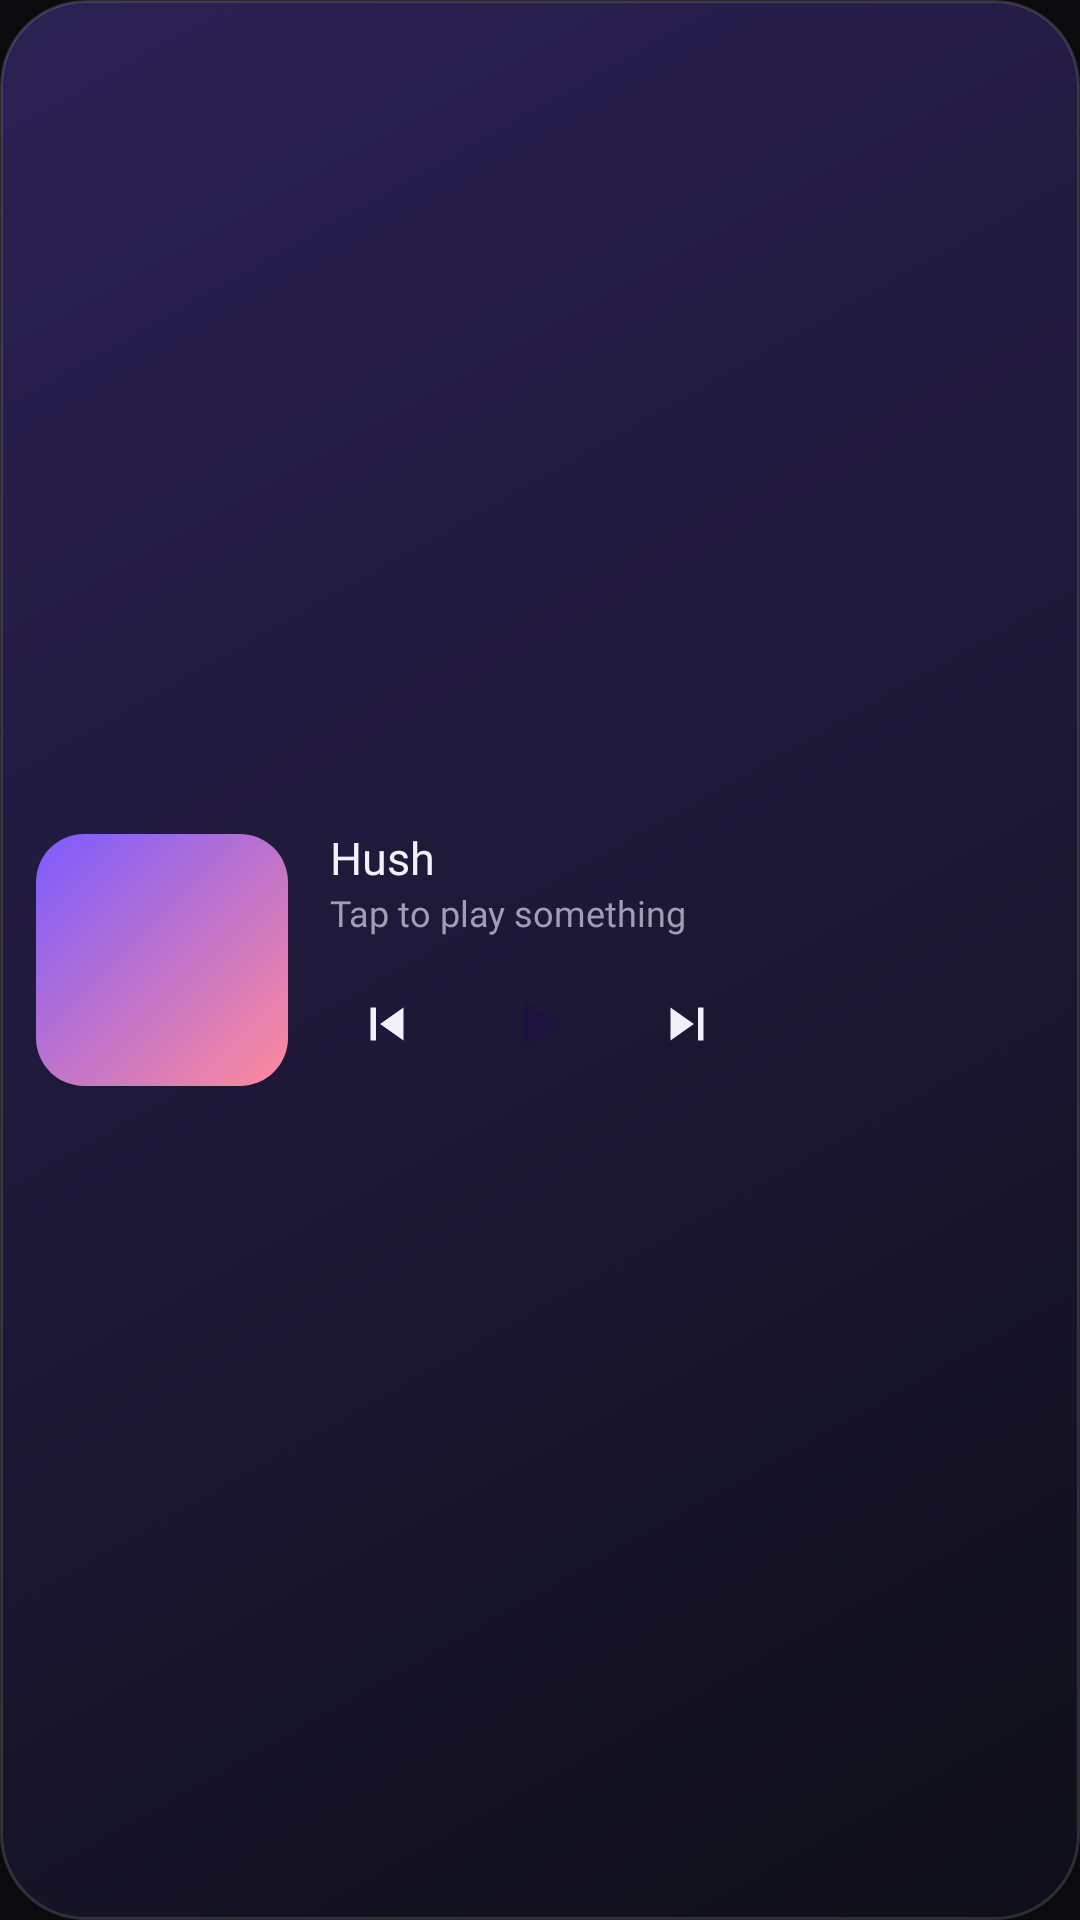

Screen size 1080x1920. Icon name, then its box in pixels as (x1, y1, x2, y2):
next: (670, 1007, 704, 1041)
prev: (370, 1007, 404, 1041)
